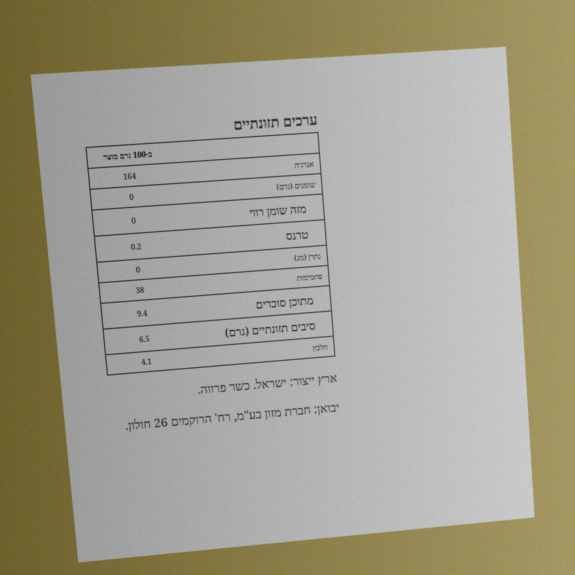carbs: (134, 283, 146, 297)
energy: (121, 169, 138, 183)
fat: (127, 190, 135, 204)
protein: (139, 355, 153, 369)
